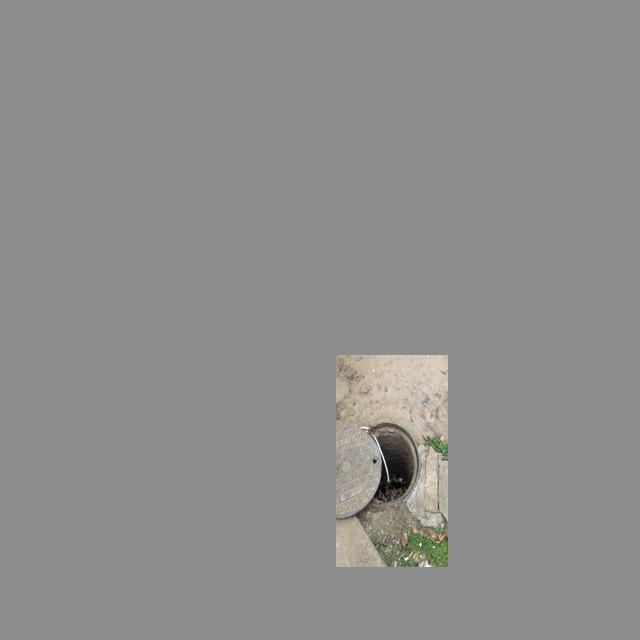uncovered: (336, 420, 421, 519)
